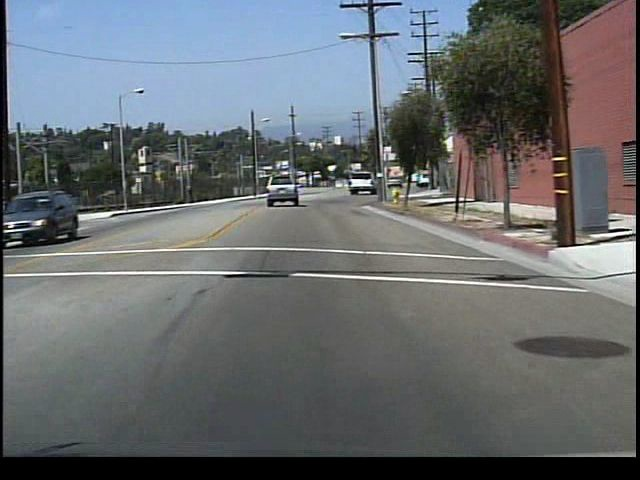person: (186, 180, 203, 204)
